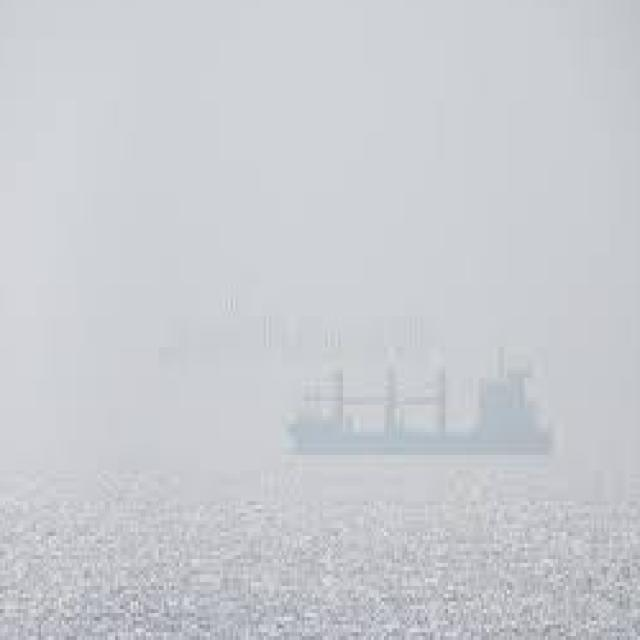cargoship: (284, 346, 557, 460)
